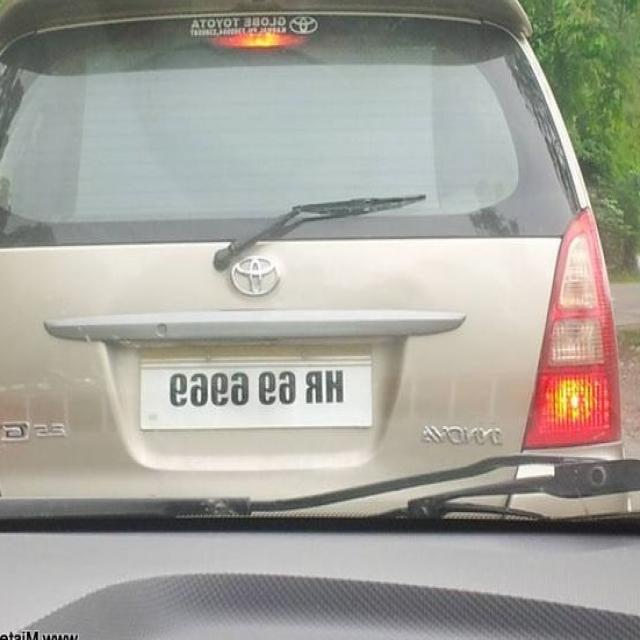license_plate: (135, 355, 377, 436)
